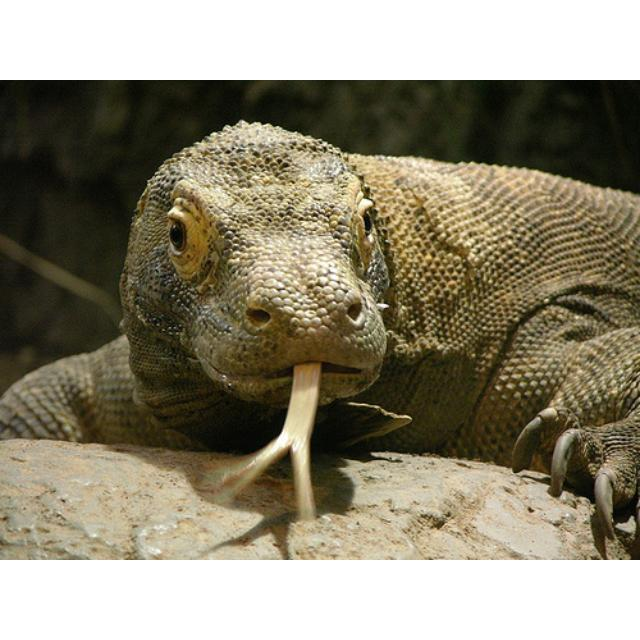KomodoDragon: (1, 118, 638, 541)
